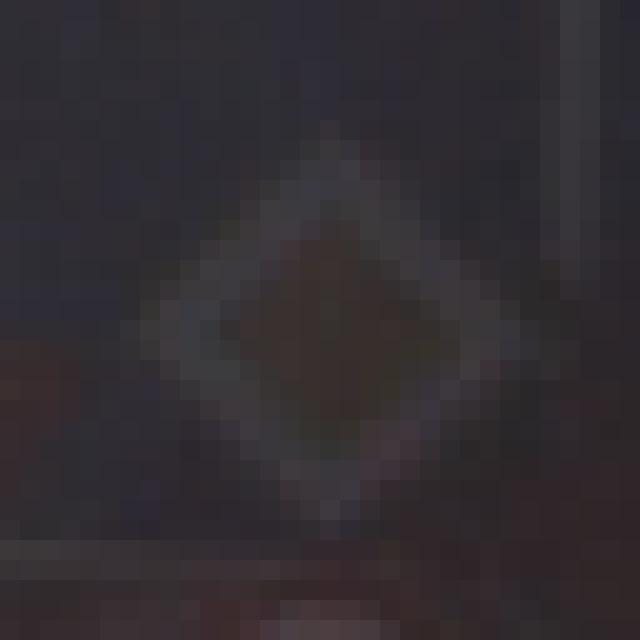Main Road: (101, 101, 541, 521)
